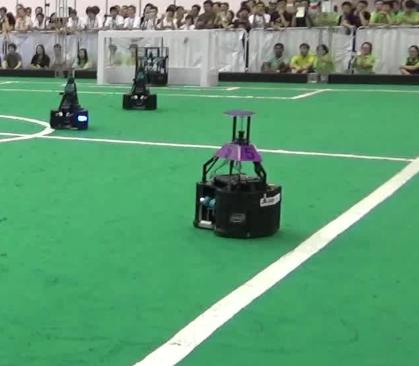robot: (189, 108, 282, 240), (48, 67, 93, 133), (121, 54, 158, 112)
